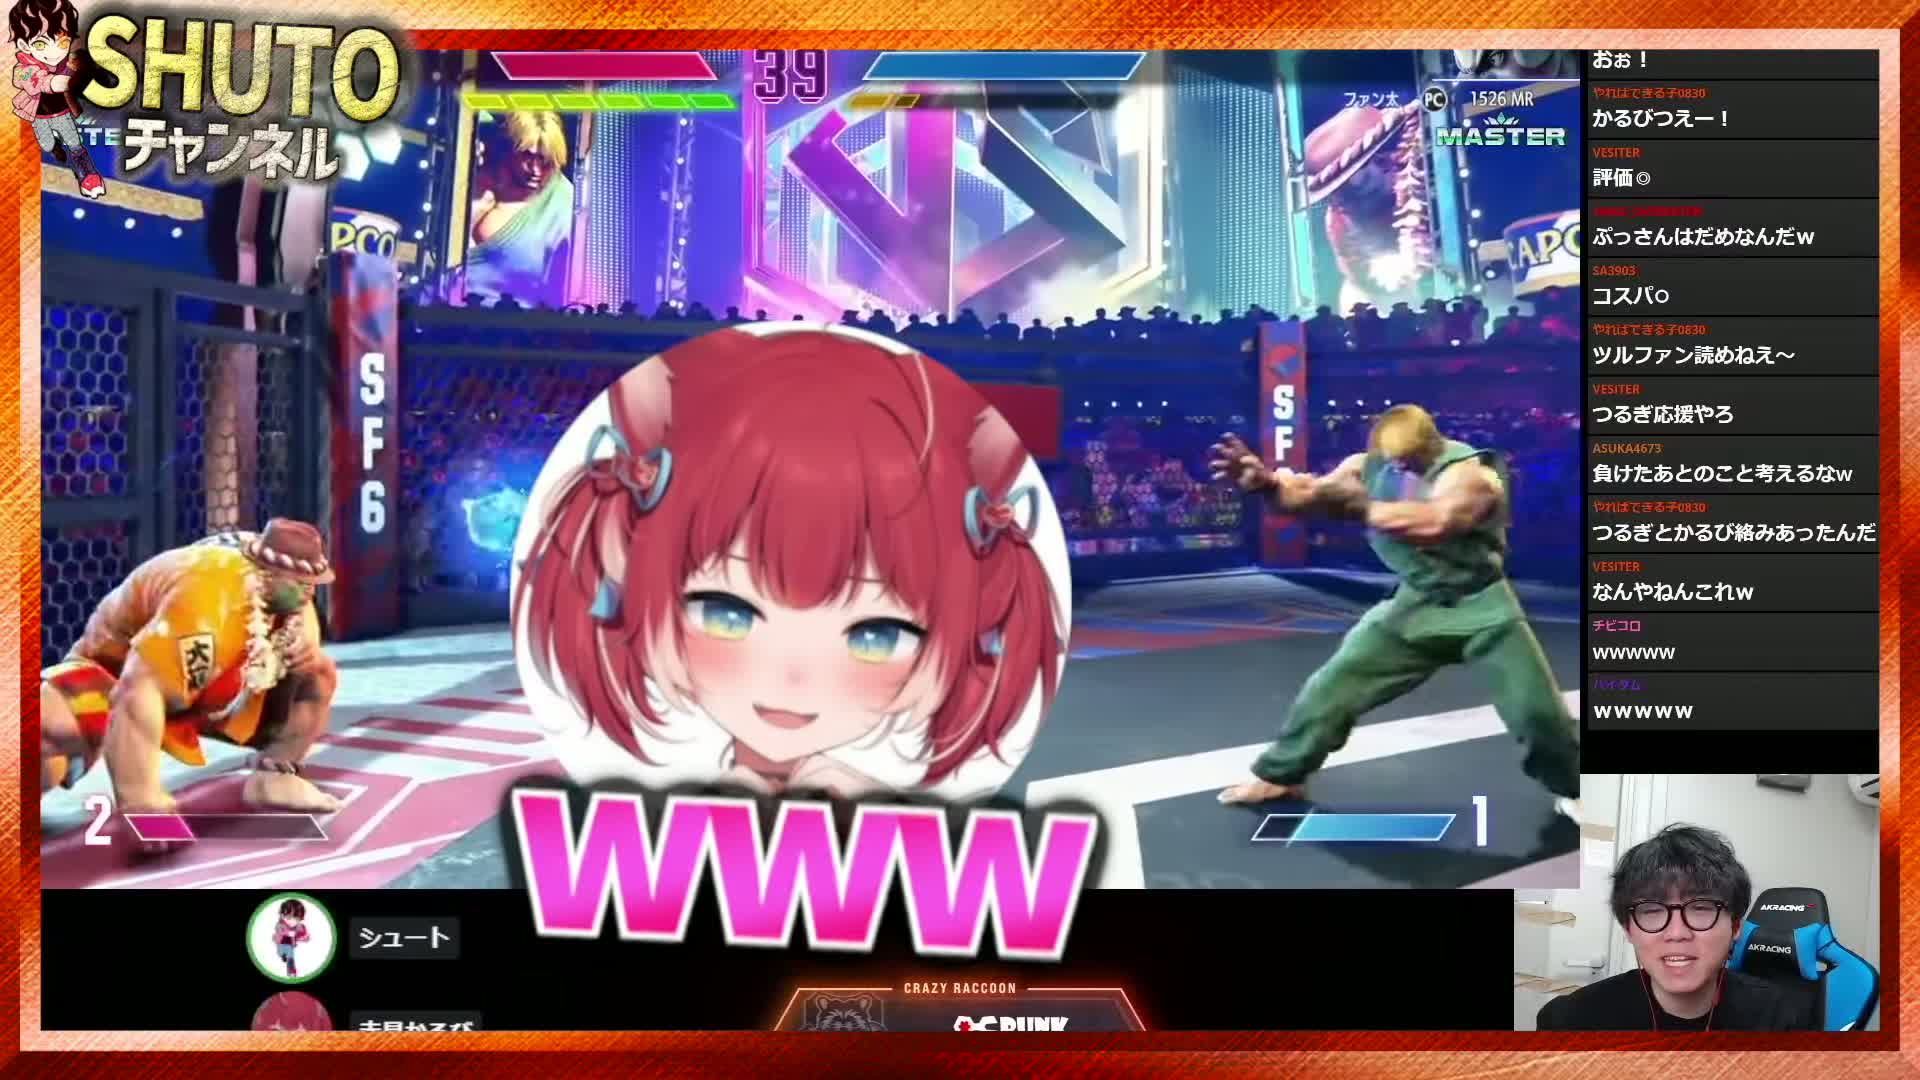stream_tag: (1514, 775, 1884, 1030)
